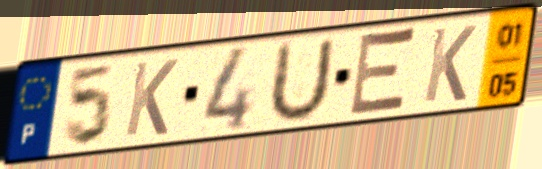4: (200, 44, 257, 134)
5: (59, 60, 119, 149)
E: (345, 24, 421, 120)
K: (121, 56, 181, 140), (420, 22, 480, 106)
U: (263, 33, 338, 128)
